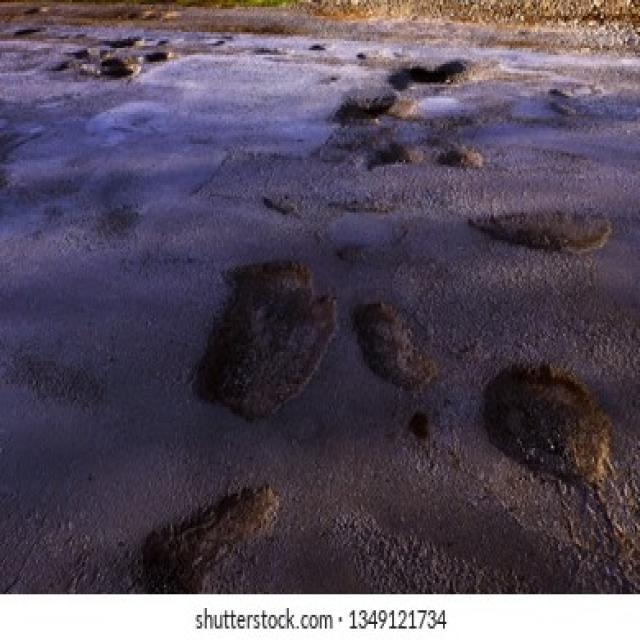Pothole: (192, 260, 340, 423), (479, 361, 611, 489), (140, 480, 280, 594), (353, 298, 435, 396), (468, 210, 610, 256), (388, 57, 480, 92), (330, 91, 417, 126), (368, 140, 423, 172), (435, 142, 484, 174), (99, 62, 138, 82), (407, 409, 432, 439), (262, 194, 294, 217), (100, 34, 140, 48), (144, 48, 171, 66), (548, 100, 576, 116), (98, 55, 125, 68), (50, 62, 70, 74), (69, 48, 89, 59)
